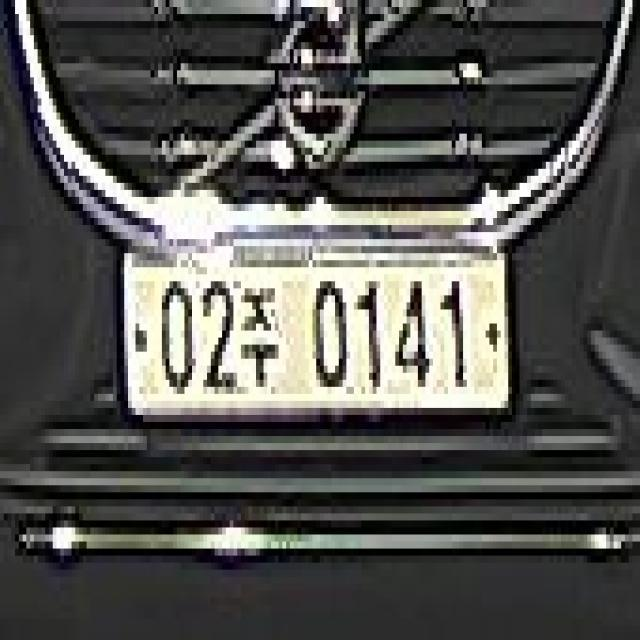0: (157, 278, 202, 394), (314, 276, 348, 399)
1: (352, 266, 386, 406), (440, 268, 474, 404)
2: (201, 271, 238, 400)
4: (390, 268, 436, 396)
ju: (240, 282, 290, 384)
license_plate: (109, 238, 526, 443)
